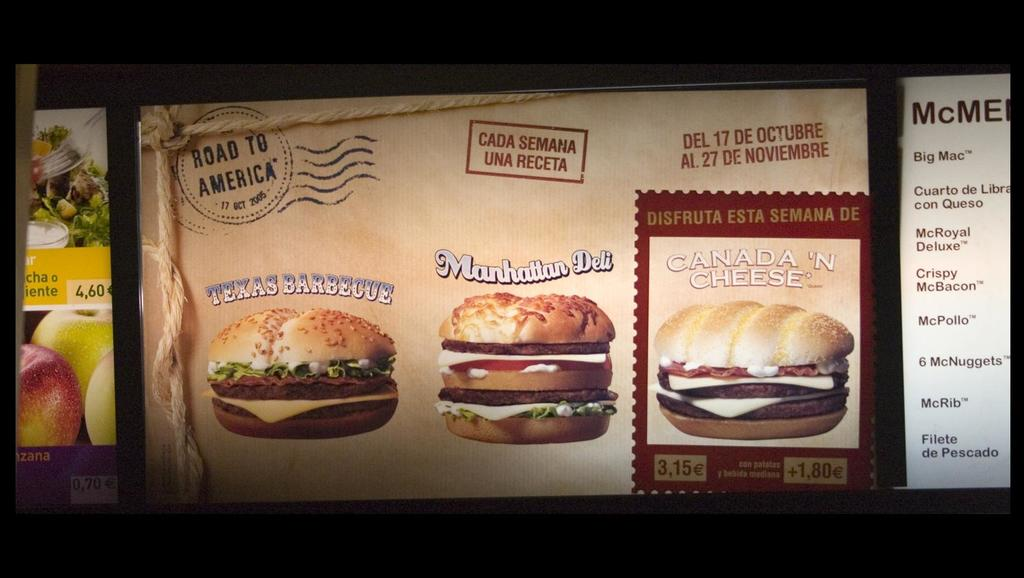Hamburger: (656, 300, 855, 439), (435, 293, 619, 443), (201, 309, 399, 440)
